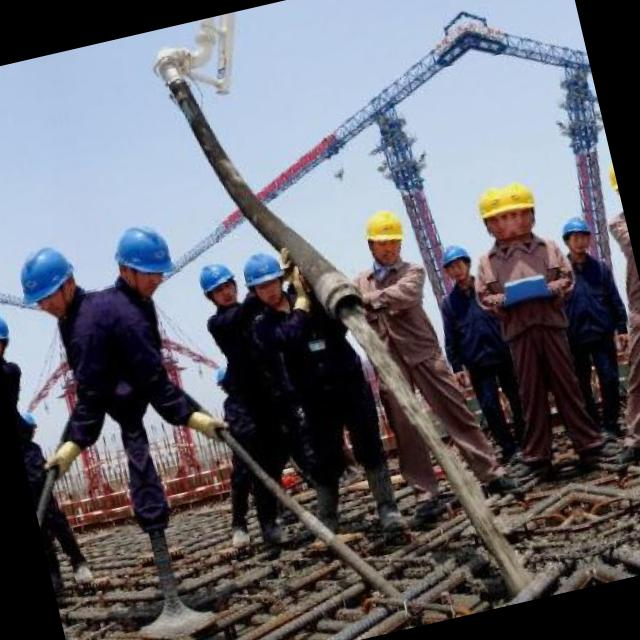helmet: (102, 214, 184, 306), (9, 236, 90, 327), (356, 202, 412, 270), (238, 244, 292, 314), (470, 183, 514, 254), (502, 176, 546, 247), (433, 232, 478, 292), (554, 204, 598, 264), (192, 256, 238, 312), (0, 307, 19, 361)
